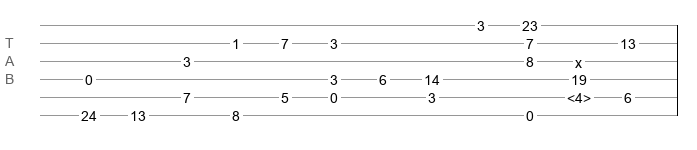0: (85, 72, 93, 82), (330, 90, 338, 100), (526, 108, 534, 118)
1: (232, 36, 240, 46)
13: (130, 108, 146, 118), (620, 36, 636, 46)
14: (424, 72, 440, 82)
19: (571, 72, 587, 82)
23: (522, 18, 538, 28)
24: (81, 108, 97, 118)
3: (183, 54, 191, 64), (330, 36, 338, 46), (330, 72, 338, 82), (428, 90, 436, 100), (477, 18, 485, 28)
5: (281, 90, 289, 100)
6: (379, 72, 387, 82), (624, 90, 632, 100)
7: (183, 90, 191, 100), (281, 36, 289, 46), (526, 36, 534, 46)
8: (232, 108, 240, 118), (526, 54, 534, 64)
harmonic: (567, 90, 591, 100)
x: (575, 55, 582, 63)
